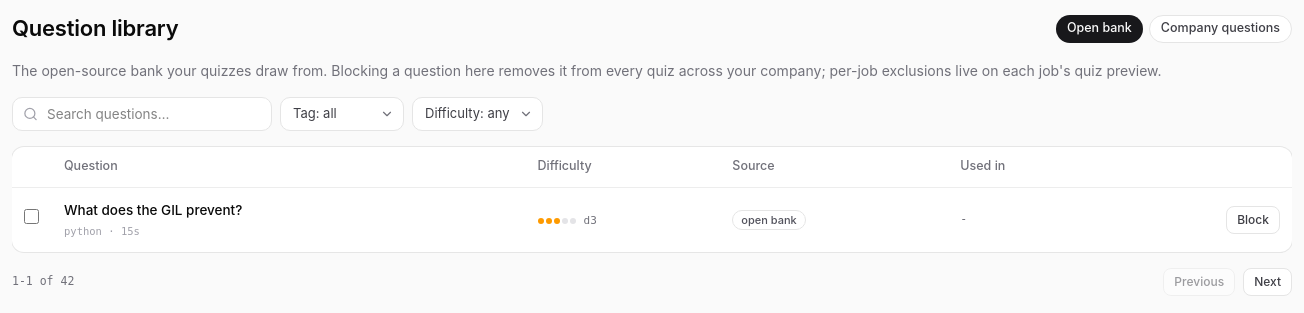
Test case: QuestionsPage › clears active filters via the Clear link
Expected: the text "What does the GIL prevent?" is shown, x1=64 y1=202 x2=242 y2=218
Expected: the button "Clear" is not shown
Type "gil" into the field labelled "Search questions" at (142, 114), box x1=12 y1=97 x2=272 y2=131
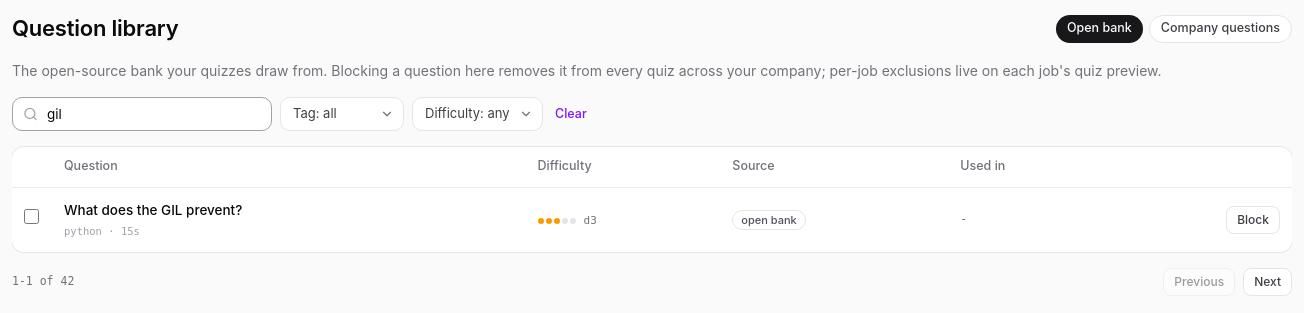
Now the button "Clear" is shown
Click the button "Clear" at (571, 114), box x1=555 y1=105 x2=587 y2=123
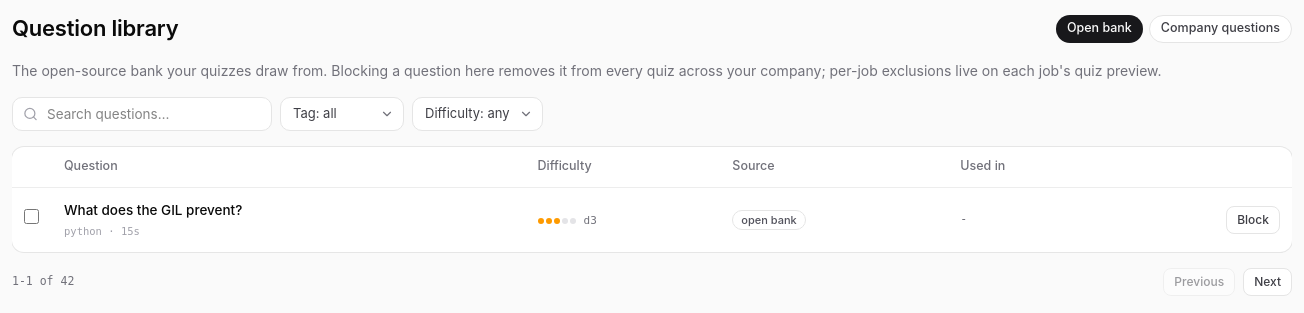
Now the button "Clear" is gone
